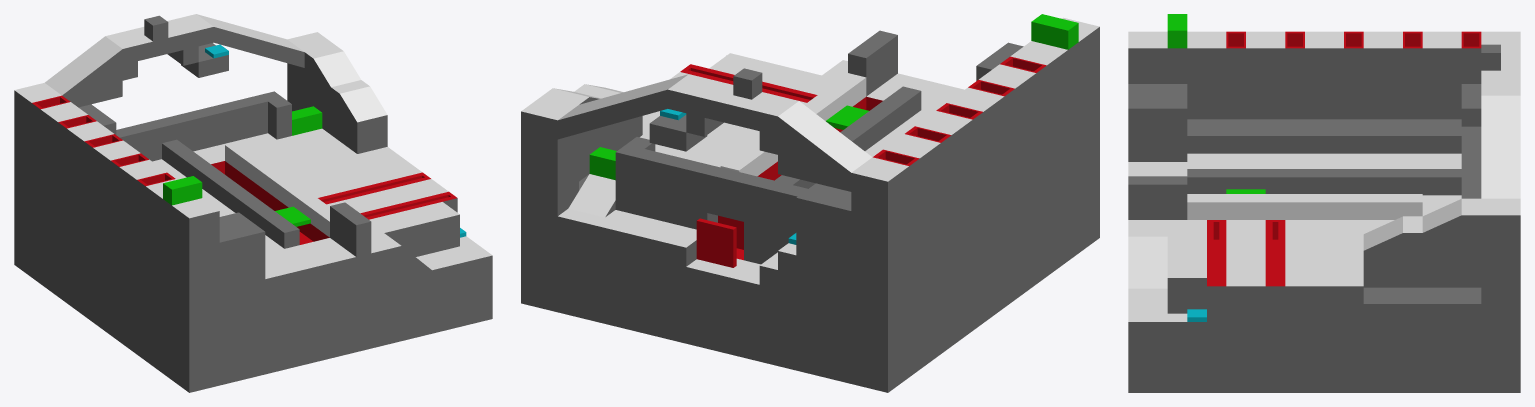
The model's file is Nivel1_v4.fbx.
3 renders of one model, left to right at view 1: azimuth 30°, elevation 25°; view 2: azimuth 150°, elevation 25°; view 3: azimuth 270°, elevation 25°, orthographic. The views are drawn at different scales.
Parts seen in each view (by area): view 1: Base, Pared final, Pared 3, Modulo movil 1, Pared 1, Inicio, Pivotes electricos 2, Modulo movil 2, Pared 2, Puerta 2, Puerta 1, Horno; view 2: Base, Pared final, Pared 3, Horno, Modulo movil 2, Pared 1, Pivotes electricos 2, Modulo movil 1, Pared 2, Base.001, Puerta 2, Puerta 1 (+2 smaller); view 3: Base, Pared final, Cinta transportadora, Modulo movil 1, Pared 1, Pivotes electricos 2, Inicio, Pared 2, Pared 3, Modulo movil 2, Horno, Puerta 2.
Boxes of the visible parts, x1,y1,x2,y2 form: Base: [14, 14, 492, 392]; Pared final: [14, 29, 219, 297]; Pared 3: [116, 91, 291, 161]; Modulo movil 1: [304, 45, 387, 153]; Pared 1: [162, 139, 299, 248]; Inicio: [204, 212, 265, 293]; Pivotes electricos 2: [225, 141, 329, 237]; Modulo movil 2: [136, 15, 228, 77]; Pared 2: [330, 202, 371, 256]; Puerta 2: [163, 176, 202, 205]; Puerta 1: [292, 106, 322, 135]; Horno: [78, 104, 116, 134]; Base: [521, 53, 1099, 392]; Pared final: [741, 17, 1099, 277]; Pared 3: [615, 137, 807, 233]; Horno: [796, 183, 869, 272]; Modulo movil 2: [649, 68, 762, 151]; Pared 1: [775, 86, 921, 188]; Pivotes electricos 2: [720, 73, 866, 176]; Modulo movil 1: [542, 84, 642, 181]; Pared 2: [848, 30, 897, 96]; Base.001: [696, 218, 736, 267]; Puerta 2: [1031, 14, 1078, 49]; Puerta 1: [589, 147, 616, 180]; Base: [1128, 79, 1520, 392]; Pared final: [1128, 31, 1520, 119]; Cinta transportadora: [1187, 119, 1461, 153]; Modulo movil 1: [1363, 198, 1481, 286]; Pared 1: [1187, 169, 1461, 195]; Pivotes electricos 2: [1187, 194, 1422, 219]; Inicio: [1128, 84, 1187, 161]; Pared 2: [1128, 176, 1187, 219]; Pared 3: [1461, 126, 1481, 198]; Modulo movil 2: [1481, 44, 1520, 78]; Horno: [1461, 84, 1481, 126]; Puerta 2: [1167, 14, 1187, 48].
Bounding box in the file's own units: 2000 × 1400 × 2000.
